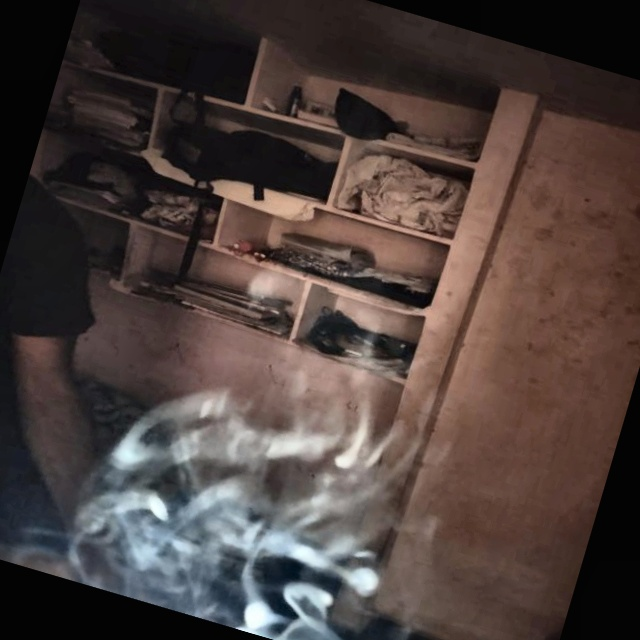smoke: (81, 342, 418, 634)
